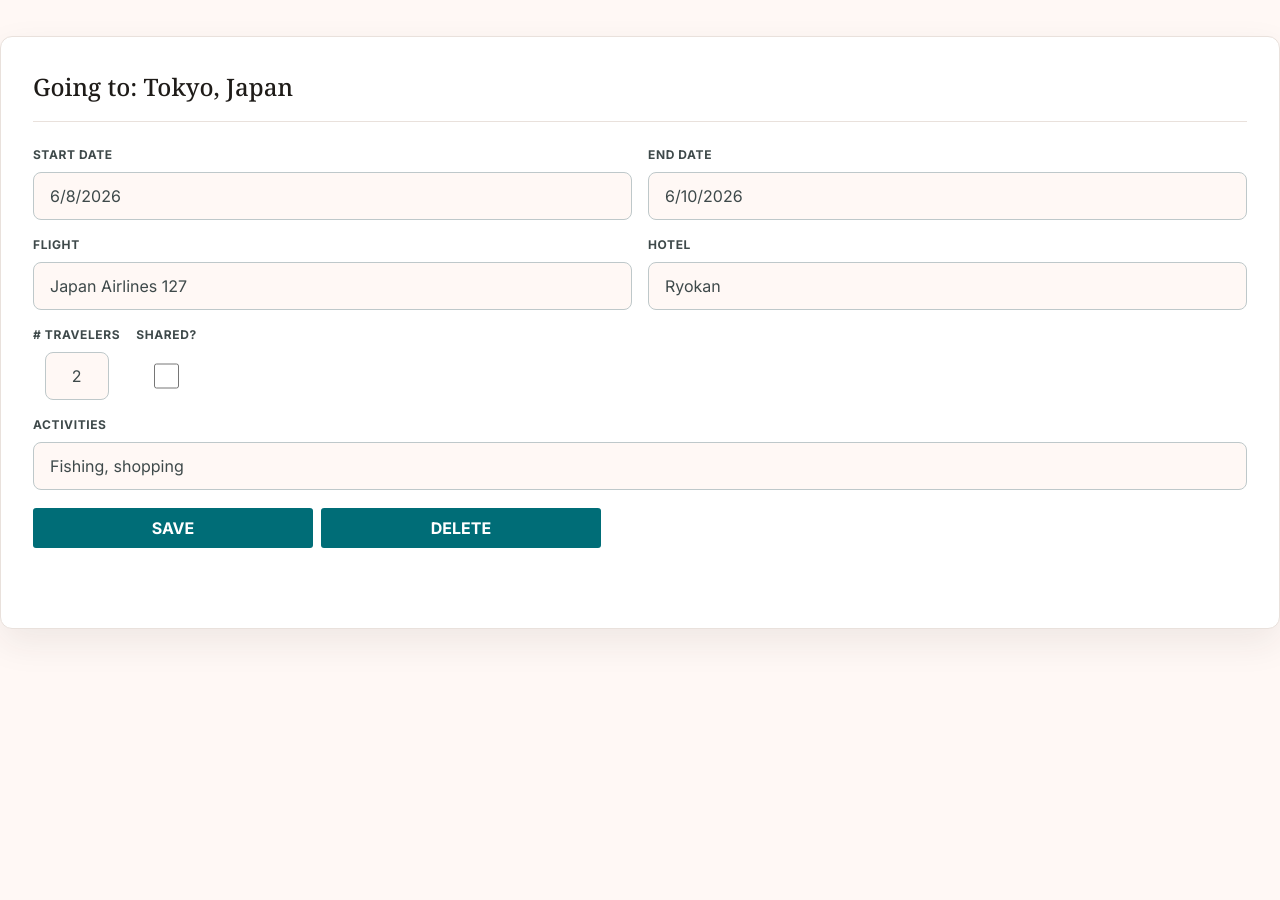
Test: Share Trip › shows the travelers field when the share checkbox is checked
// check the checkbox to make sure that "other travelers" textbox shows up
Click the checkbox at (166, 376), box [154,352,179,400]
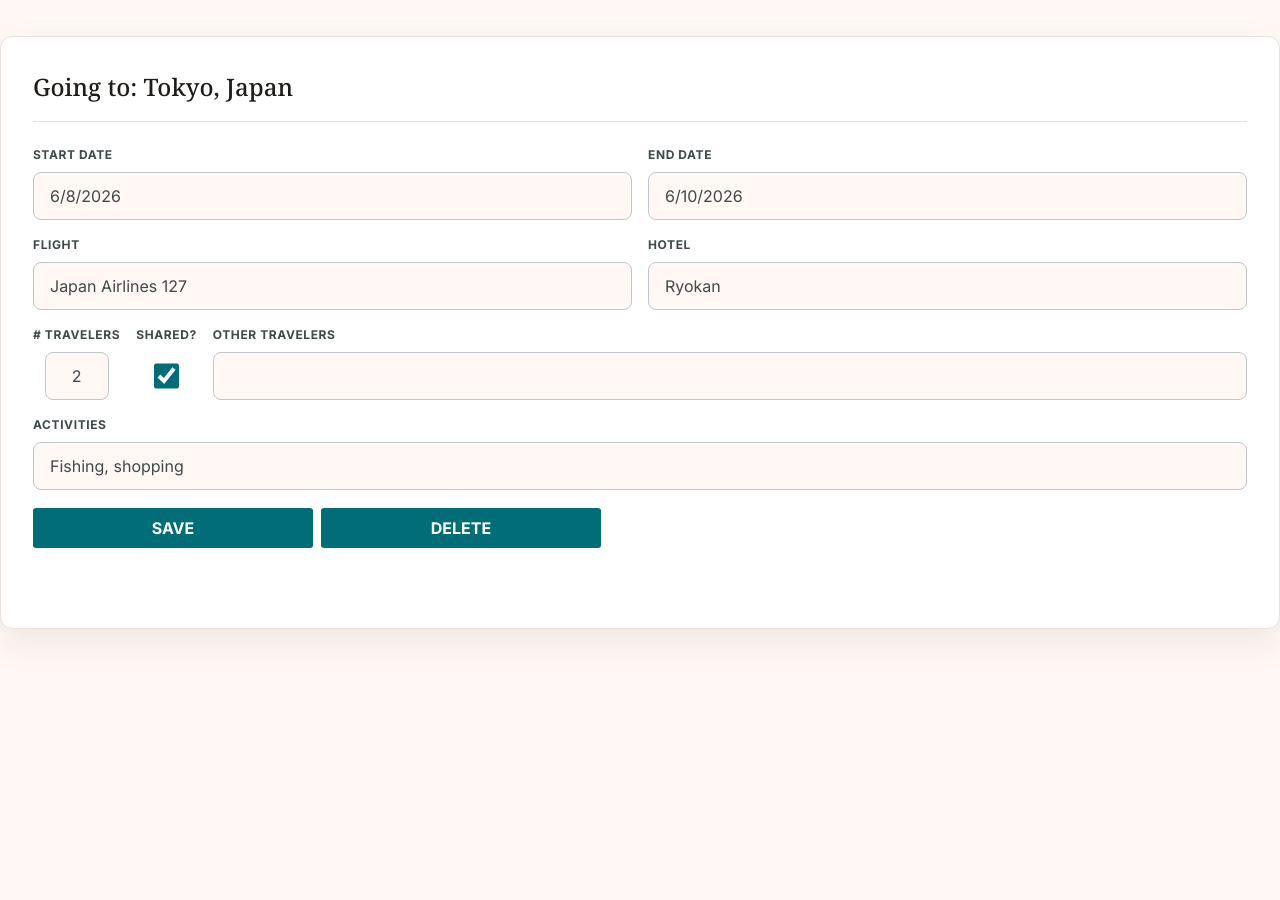
Expected: the field labelled "Other Travelers" is shown, [213,352,1247,400]
